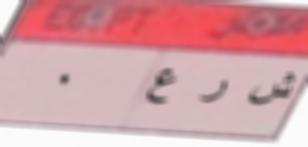0: (57, 66, 76, 97)
ain: (143, 63, 179, 112)
raa: (198, 75, 231, 105)
sheen: (249, 65, 296, 112)
